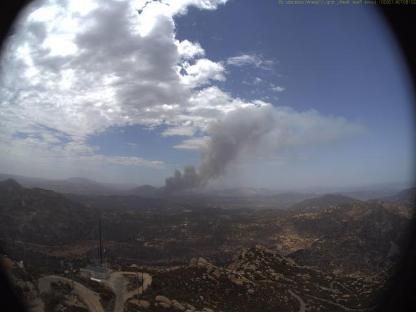smoke: (144, 100, 326, 204)
